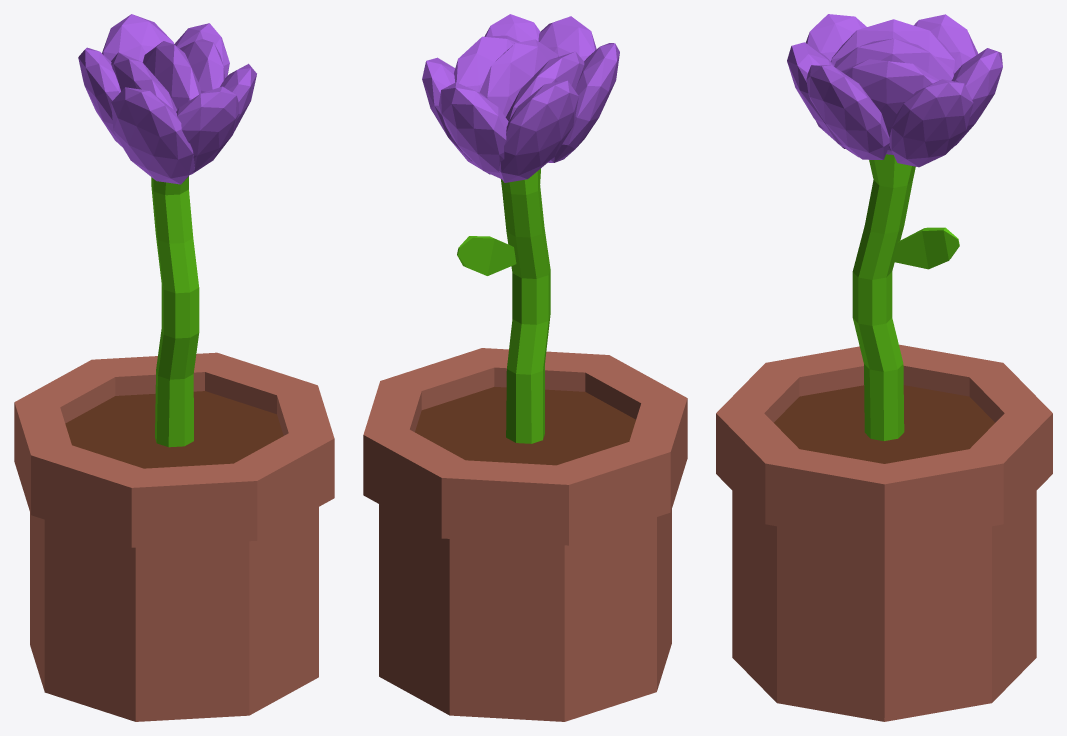
The model's file is Plant.fbx.
3 views of the same model, side by side, from view 1: azimuth 30°, elevation 25°; view 2: azimuth 150°, elevation 25°; view 3: azimuth 270°, elevation 25° (orthographic).
Visible parts, largest first — view 1: Plant; view 2: Plant; view 3: Plant.
Boxes of the visible parts, <box> form: Plant: <box>14,14,334,721</box>; Plant: <box>363,14,687,721</box>; Plant: <box>716,14,1052,721</box>.
Bounding box in the file's own units: 111 × 225 × 111.
